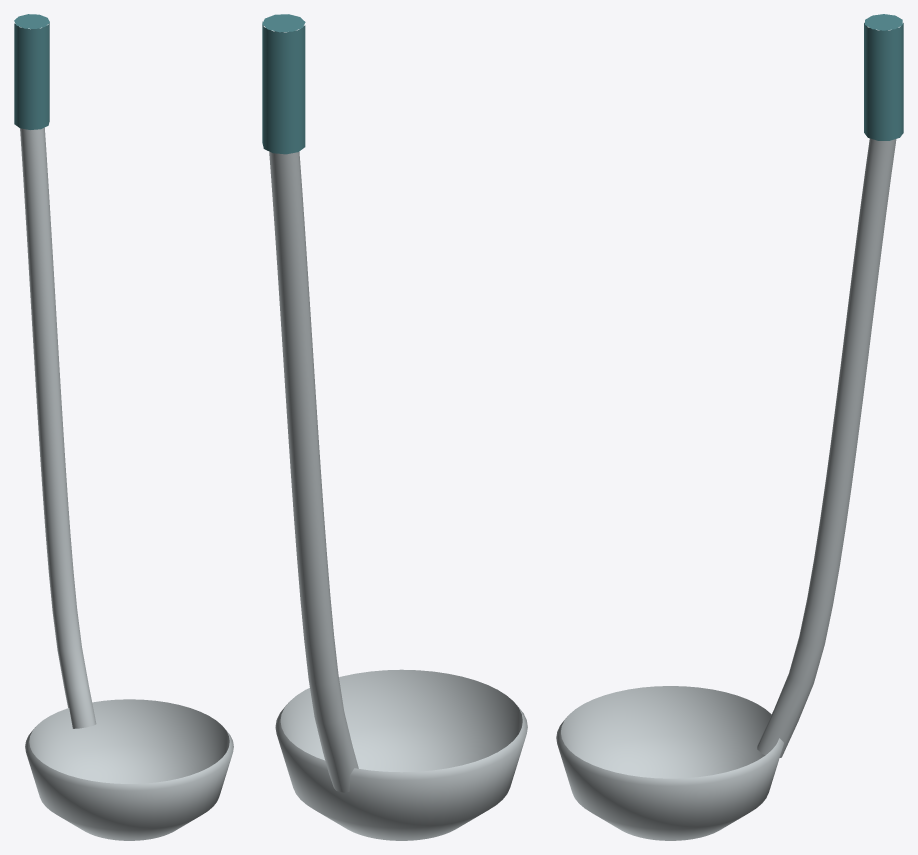
The model's file is cheesemaking-and-dairy-cellar-curd-ladle-16160cc9__30860.glb.
3 views of the same model, side by side, from view 1: azimuth 30°, elevation 25°; view 2: azimuth 150°, elevation 25°; view 3: azimuth 270°, elevation 25° (orthographic). The views are drawn at different scales.
Visible parts, largest first — view 1: curd-ladle; view 2: curd-ladle; view 3: curd-ladle.
Part boxes in pixels (bbox=[...]): curd-ladle: bbox=[14, 14, 233, 840]; curd-ladle: bbox=[262, 14, 527, 840]; curd-ladle: bbox=[556, 14, 903, 840].
Size of the model in its own units: 0.15 by 0.58 by 0.228.
